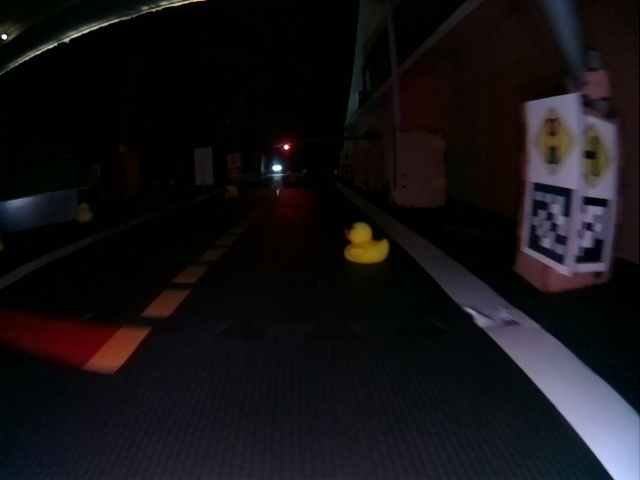Duckie: (343, 222, 388, 264), (77, 202, 93, 221), (224, 186, 238, 197)
Intersection sign: (582, 125, 616, 188)
QR code: (526, 182, 573, 269), (577, 196, 609, 267)
Signal sign: (531, 107, 573, 172)
